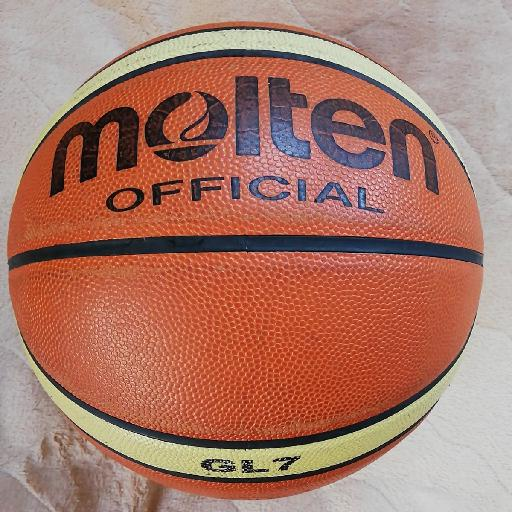ball: (6, 22, 483, 500)
